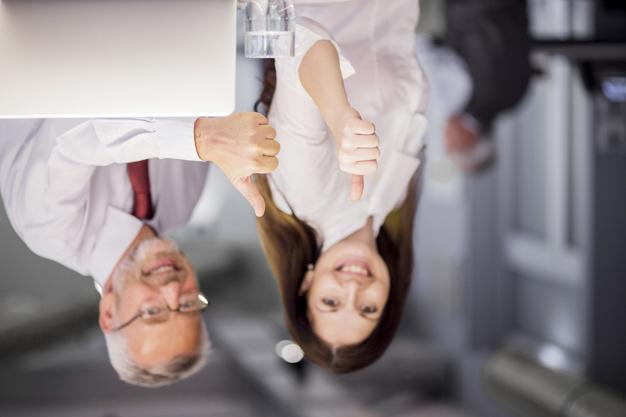thumbsdown: (235, 111, 281, 218), (339, 119, 381, 202)
